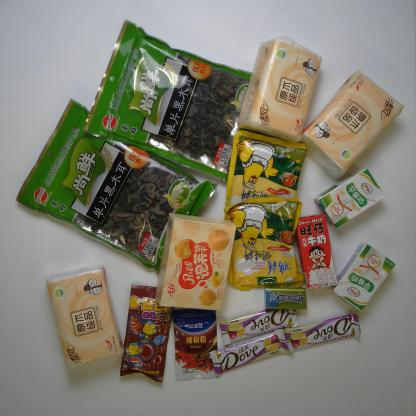Candy: (119, 276, 188, 403)
Chocolate: (204, 326, 299, 387), (216, 302, 301, 348), (285, 310, 365, 354)
Dessert: (160, 198, 239, 328)
Dried Food: (10, 90, 229, 271), (71, 4, 255, 183)
Gum: (258, 283, 315, 318)
Milk: (335, 240, 401, 315), (316, 168, 389, 232), (294, 209, 341, 298)
Seasoner: (220, 184, 311, 293), (222, 120, 310, 226), (168, 305, 224, 380)
Tissue: (299, 58, 406, 180), (244, 19, 326, 151), (40, 269, 130, 383)
